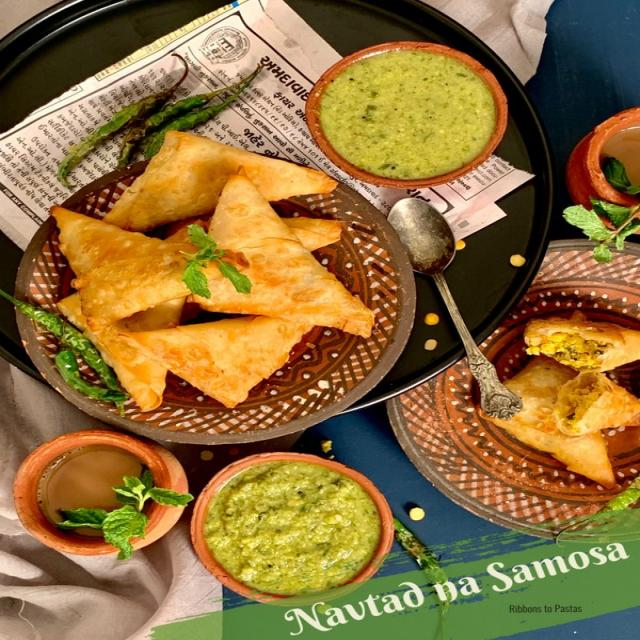SAMOSA: (195, 175, 369, 336), (105, 130, 336, 231), (52, 206, 199, 330), (117, 316, 311, 407), (491, 359, 615, 486), (60, 294, 185, 409), (549, 372, 639, 436), (198, 250, 249, 290)
